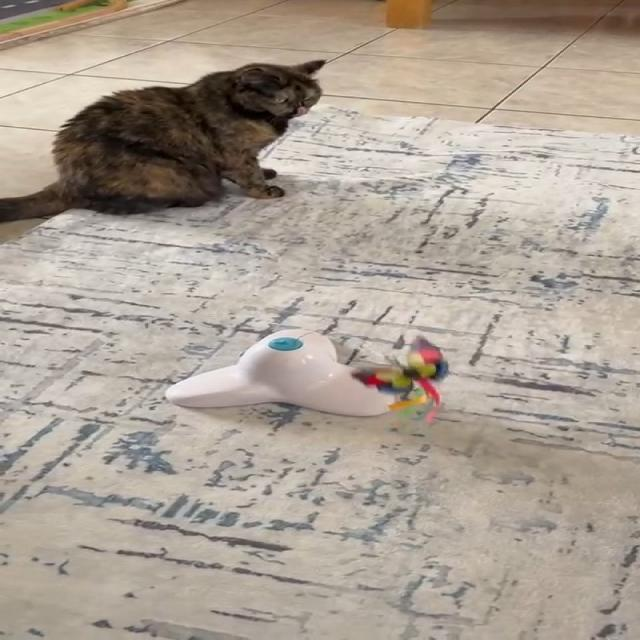authorized: (0, 58, 325, 223)
